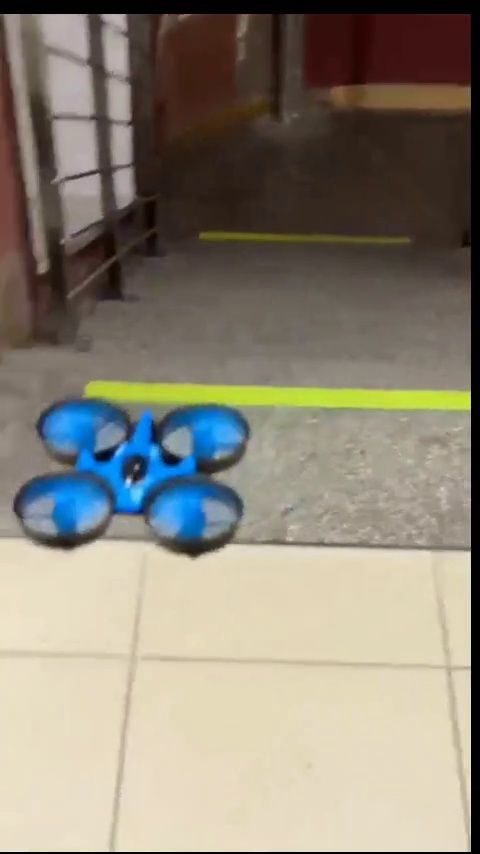drone: (21, 400, 247, 553)
